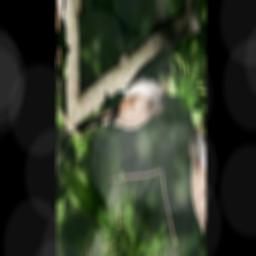Cuckoo: (71, 7, 174, 206)
